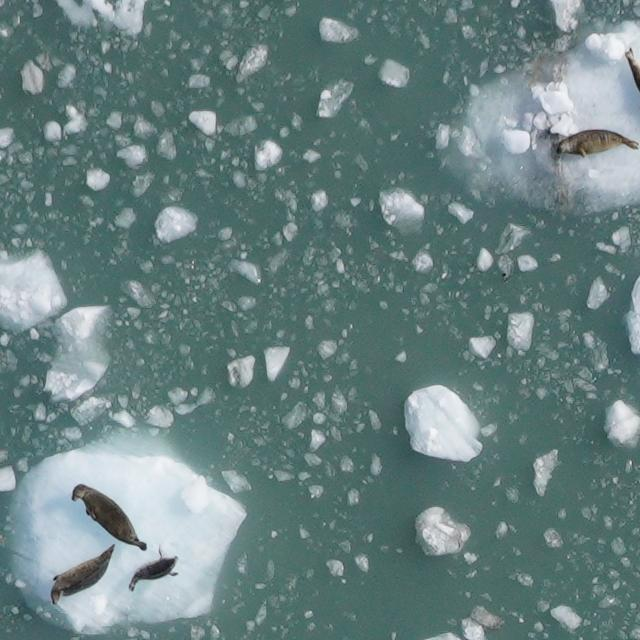seal: (65, 473, 156, 563), (40, 542, 130, 607), (117, 543, 185, 595)
